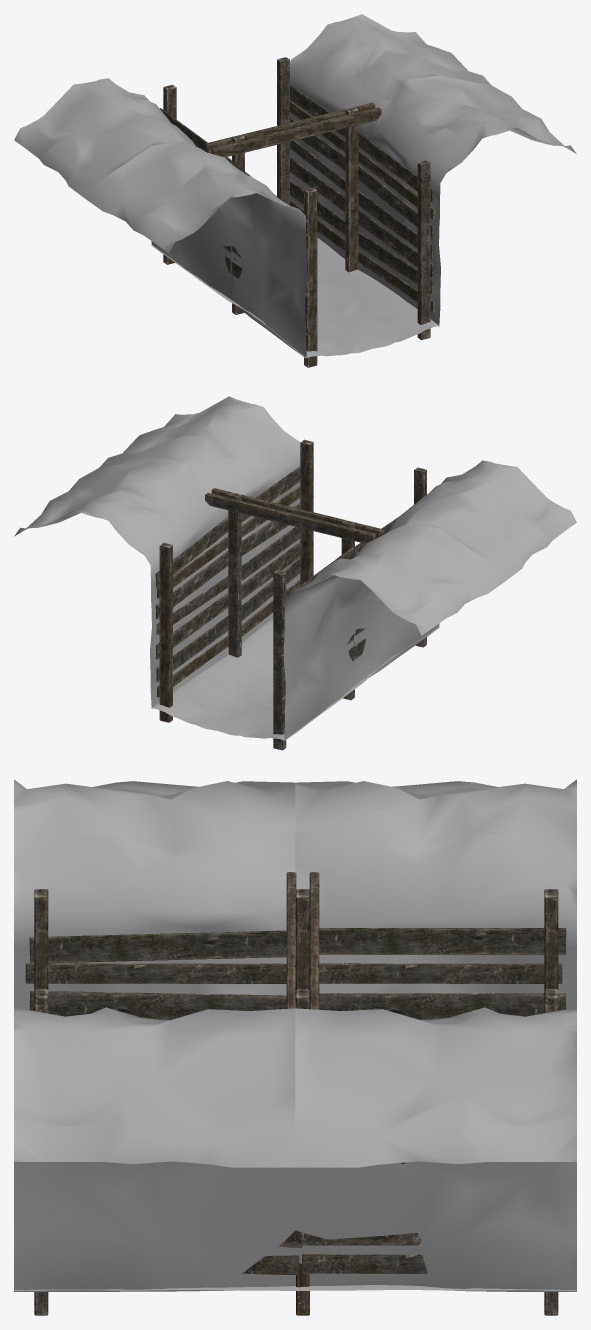
The model's file is Ground_Straight_Wood.fbx.
3 renders of one model, top to bottom at view 1: azimuth 30°, elevation 25°; view 2: azimuth 150°, elevation 25°; view 3: azimuth 270°, elevation 25°, orthographic. The views are drawn at different scales.
Visible parts, largest first — view 1: Ground_Straight_Wood_LOD0; view 2: Ground_Straight_Wood_LOD0; view 3: Ground_Straight_Wood_LOD0.
Part boxes in pixels (bbox=[...]): Ground_Straight_Wood_LOD0: bbox=[14, 14, 576, 367]; Ground_Straight_Wood_LOD0: bbox=[14, 396, 576, 750]; Ground_Straight_Wood_LOD0: bbox=[14, 779, 576, 1315].
Size of what is drawn, in the model's own units: 627 by 277 by 400.
